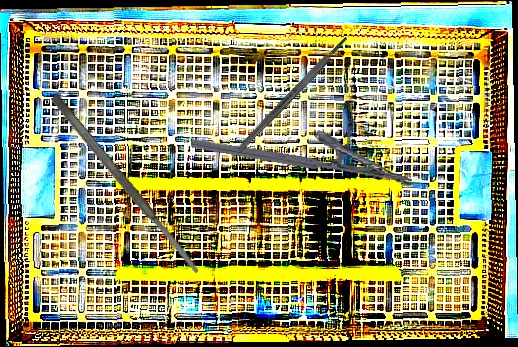Needle Holder: (190, 107, 418, 189)
Scalpel Handle: (235, 34, 350, 154)
Spatula Surgical: (49, 92, 202, 277)
